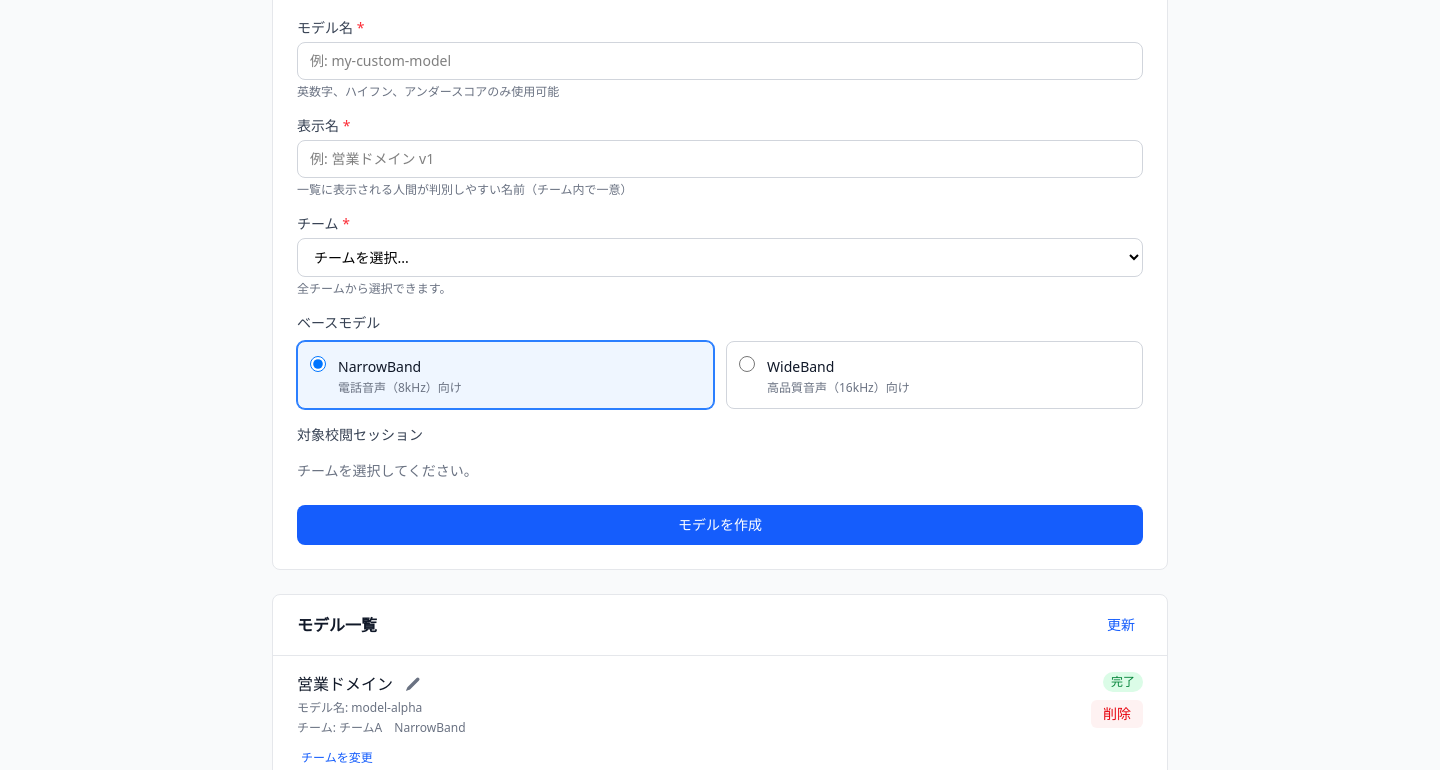
Scenario: LanguageModelPage › row actions › deletes a model after confirmation
(page scrolled)
Click the button with aria-label "モデル「営業ドメイン」を削除" at (1117, 714), box [1091,700,1143,728]
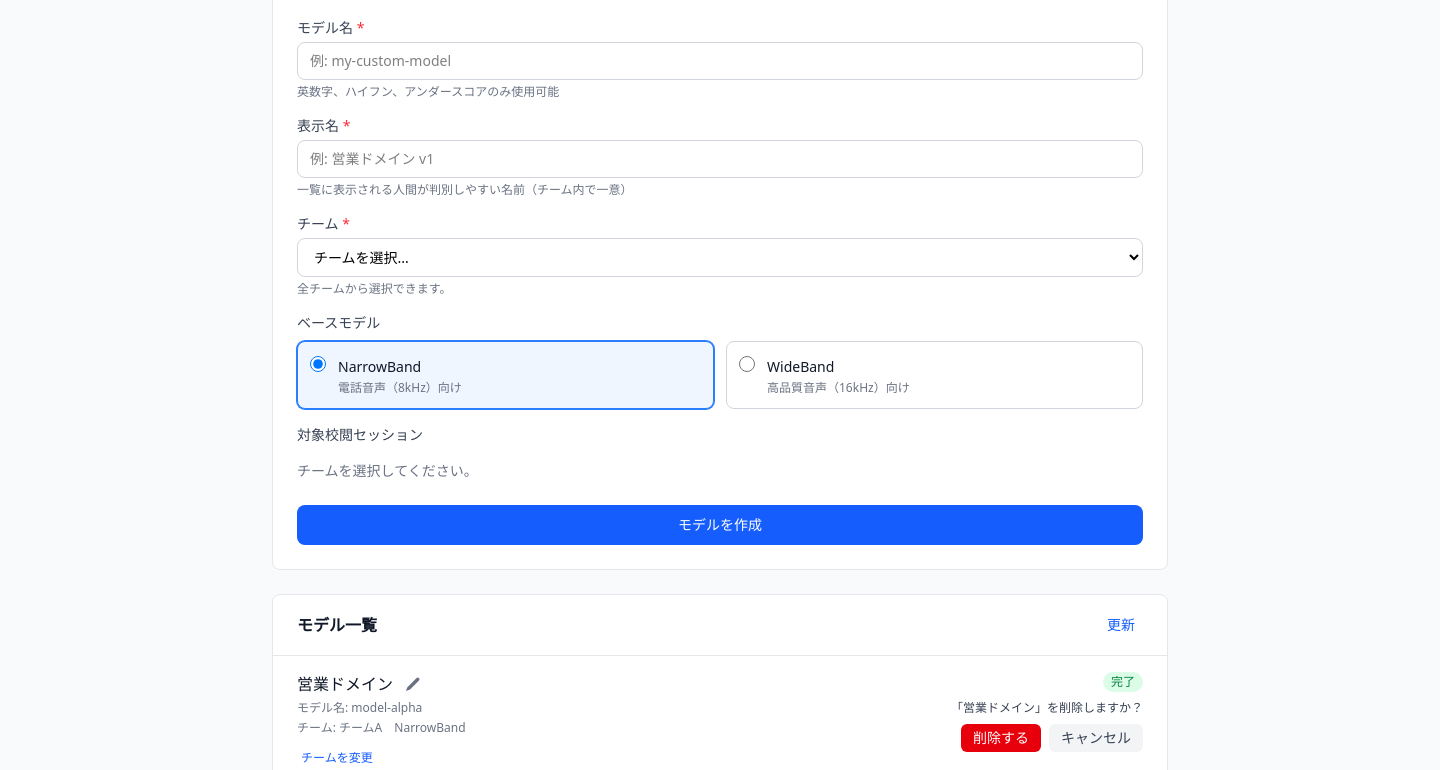
Expected: the dialog named "モデル削除の確認" is shown, [951,700,1143,752]
Click the button "削除する" at (1001, 738), box [961,724,1041,752]
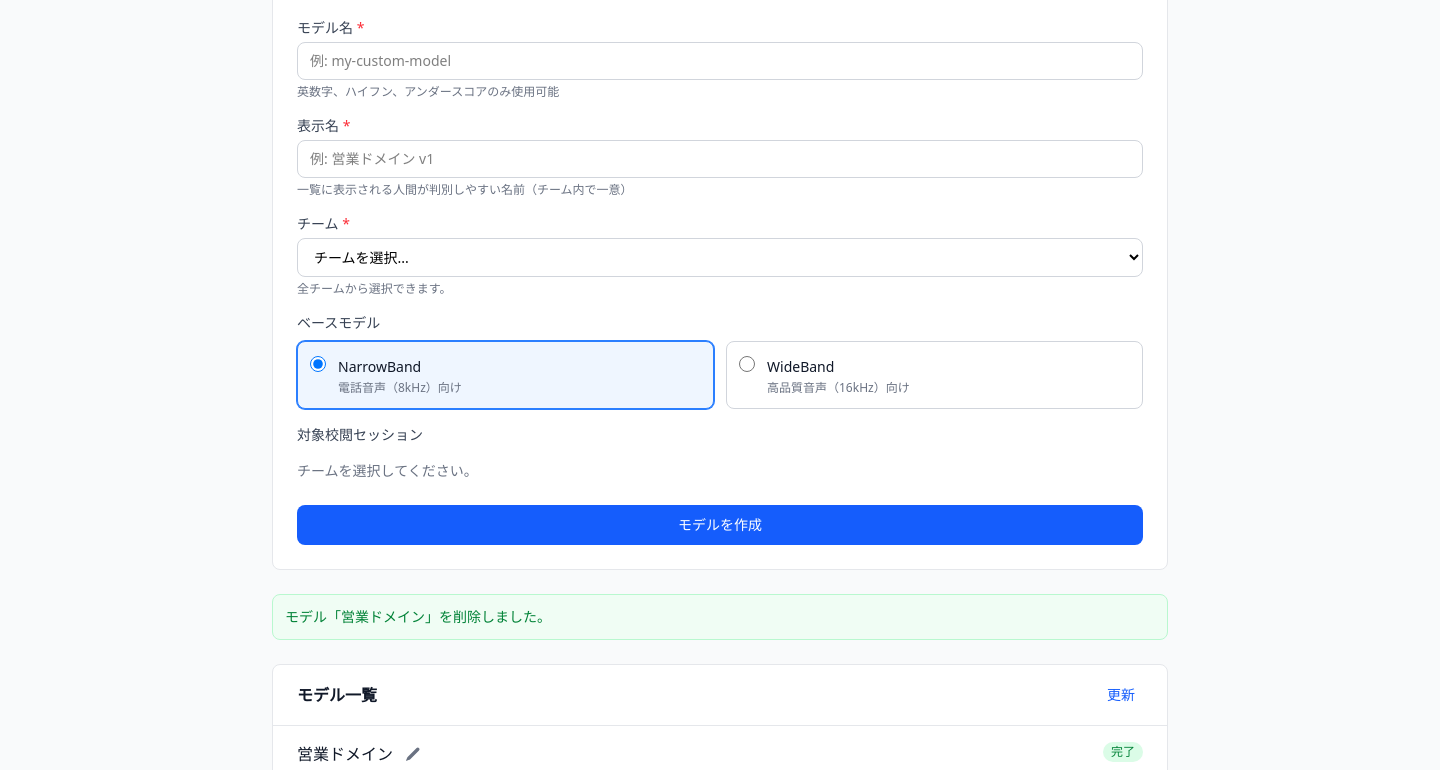
Expected: the text "モデル「営業ドメイン」を削除しました。" is shown, [285,607,551,626]
